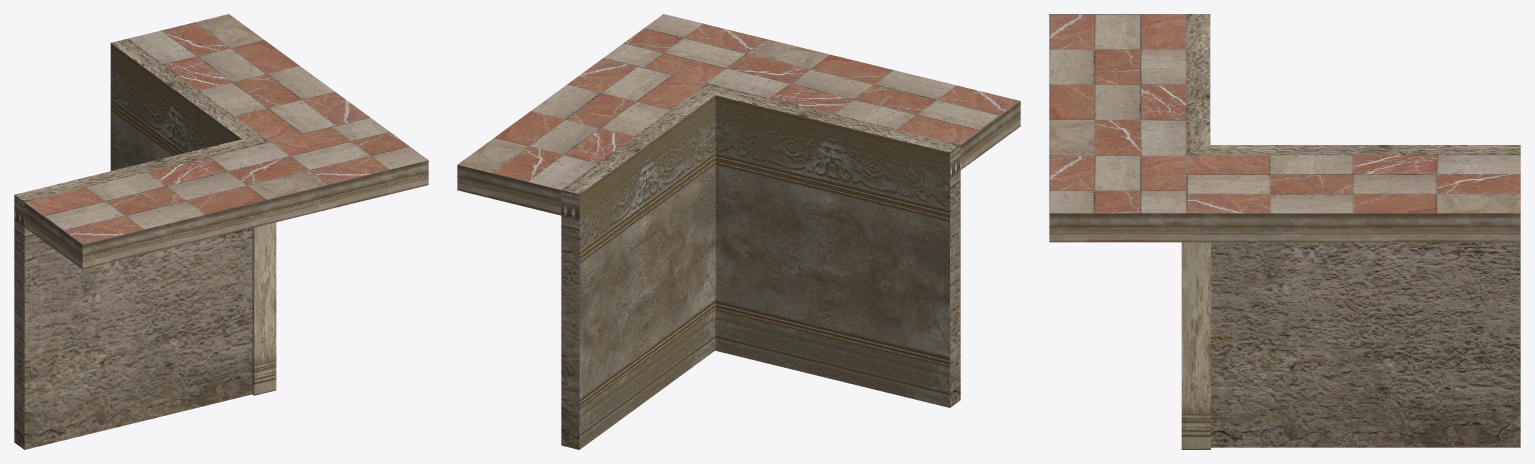
Rendered from SH3D_Sparta_BalcWall9Post.obj.
3 views of the same model, side by side, from view 1: azimuth 30°, elevation 25°; view 2: azimuth 150°, elevation 25°; view 3: azimuth 270°, elevation 25° (orthographic). The views are drawn at different scales.
Visible parts, largest first — view 1: Base_ExtWall_Sparta0, Base_Floor2_Sparta0, Base_StepsRail_Sparta0, Base_IntWall_Sparta0, Base_CornerPost0; view 2: Base_IntWall_Sparta0, Base_Floor2_Sparta0, Base_ExtWall_Sparta0, Base_StepsRail_Sparta0; view 3: Base_ExtWall_Sparta0, Base_Floor2_Sparta0, Base_StepsRail_Sparta0, Base_CornerPost0.
Boxes of the visible parts, <box> form: Base_ExtWall_Sparta0: <box>14,38,269,449</box>; Base_Floor2_Sparta0: <box>25,14,428,244</box>; Base_StepsRail_Sparta0: <box>24,160,428,269</box>; Base_IntWall_Sparta0: <box>110,43,241,170</box>; Base_CornerPost0: <box>252,222,276,395</box>; Base_IntWall_Sparta0: <box>579,95,949,449</box>; Base_Floor2_Sparta0: <box>458,14,1019,189</box>; Base_ExtWall_Sparta0: <box>561,83,960,449</box>; Base_StepsRail_Sparta0: <box>457,101,1020,215</box>; Base_ExtWall_Sparta0: <box>1186,14,1520,447</box>; Base_Floor2_Sparta0: <box>1049,14,1520,213</box>; Base_StepsRail_Sparta0: <box>1049,213,1520,242</box>; Base_CornerPost0: <box>1181,242,1210,449</box>.
Size of the model in its own units: 585 by 400 by 585.
Materials: 6 (6 with a texture image).
